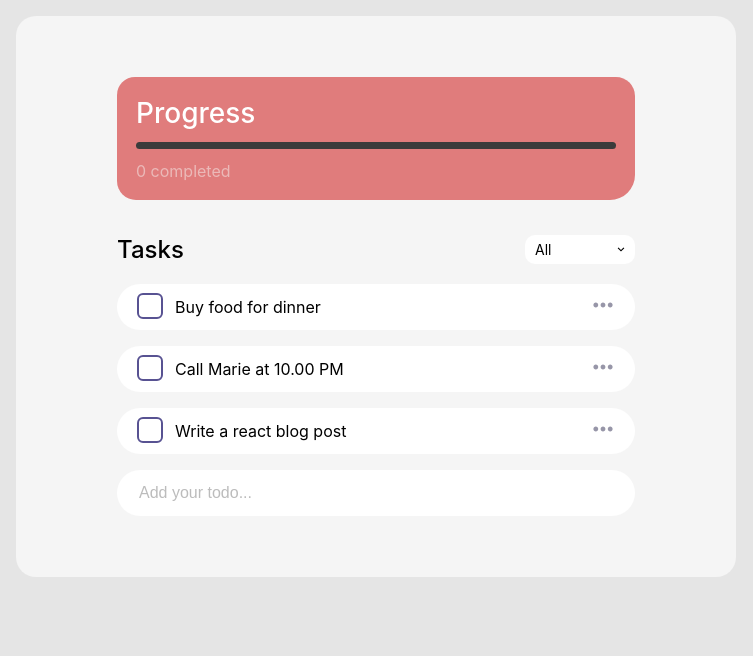
Test: should create a todo
Check: the number of elements with test id "todo-item" is 3, box [117, 284, 635, 330]; [117, 346, 635, 392]; [117, 408, 635, 454]
Type "New todo" into the field with placeholder "Add your todo...".
click(376, 493); type("New todo")  # box [137, 483, 615, 503]
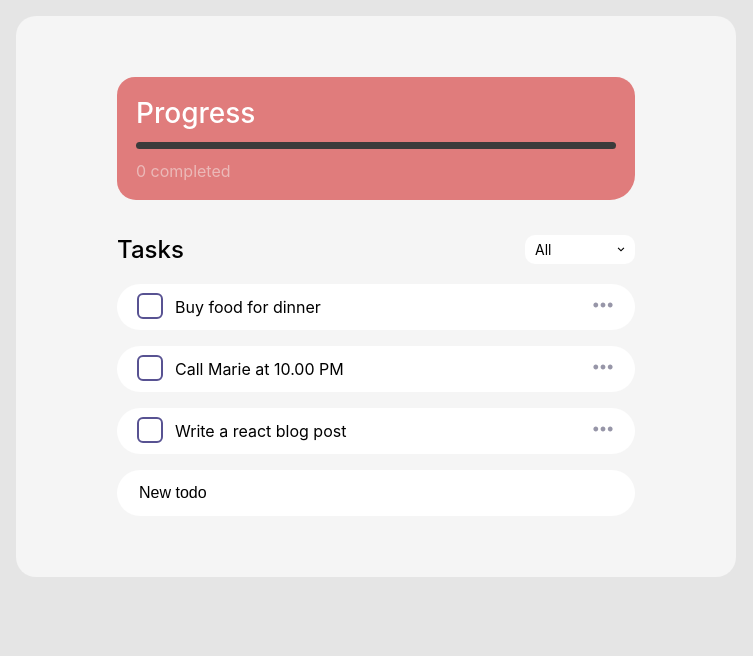
Press Enter in the field with placeholder "Add your todo...", box [137, 483, 615, 503]
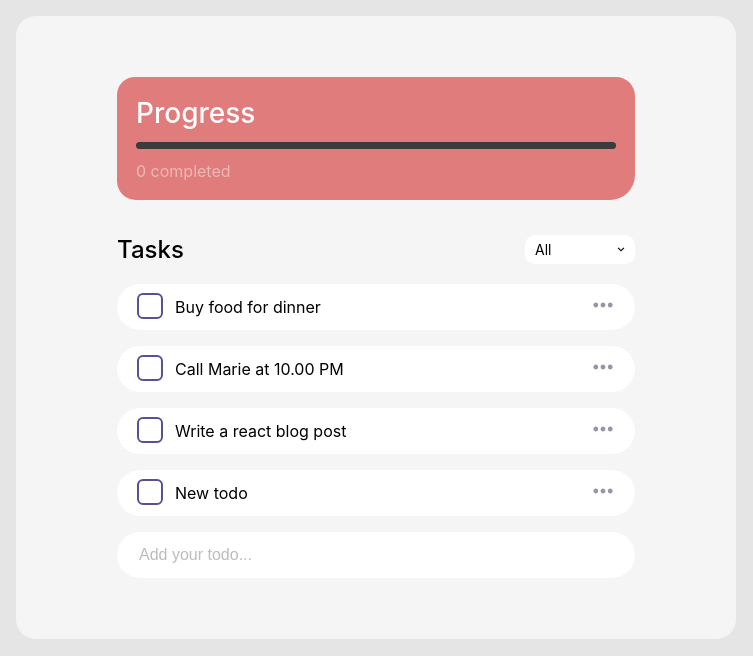
Check: the number of elements with test id "todo-item" is 4, box [117, 284, 635, 330]; [117, 346, 635, 392]; [117, 408, 635, 454]; [117, 470, 635, 516]
